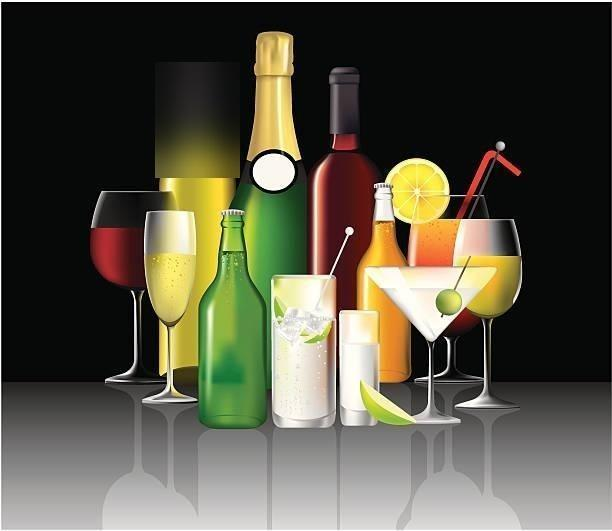bottle-glass: (305, 63, 384, 310), (195, 207, 270, 430), (354, 178, 414, 386)
glass-wine: (88, 184, 178, 385), (449, 214, 525, 411), (140, 208, 200, 403)
